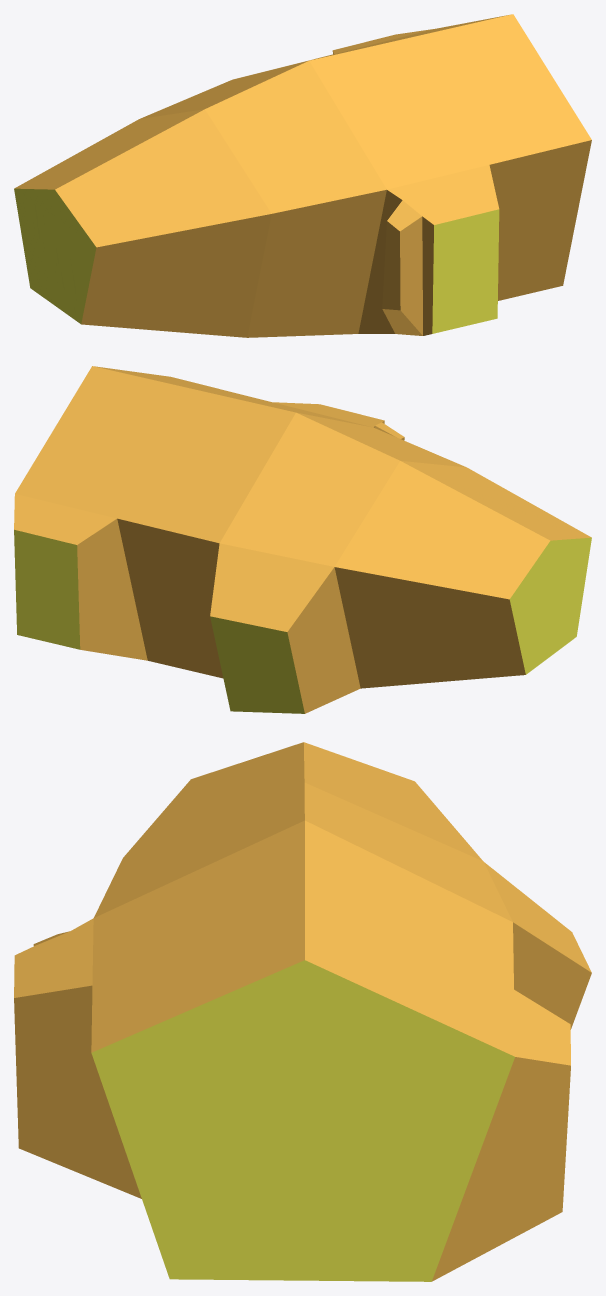
The model's file is ginger02.obj.
The picture shows the model from 3 angles, top to bottom: view 1: azimuth 30°, elevation 25°; view 2: azimuth 150°, elevation 25°; view 3: azimuth 270°, elevation 25°; orthographic projection. The views are drawn at different scales.
Parts seen in each view (by area): view 1: Cylinder.001_Cylinder.002; view 2: Cylinder.001_Cylinder.002; view 3: Cylinder.001_Cylinder.002.
Boxes of the visible parts, bbox=[...] form: Cylinder.001_Cylinder.002: bbox=[14, 14, 591, 337]; Cylinder.001_Cylinder.002: bbox=[14, 366, 591, 713]; Cylinder.001_Cylinder.002: bbox=[14, 742, 591, 1281].
Bounding box in the file's own units: 0.0536 × 0.0268 × 0.0431.
Materials: 1 (1 with a texture image).
